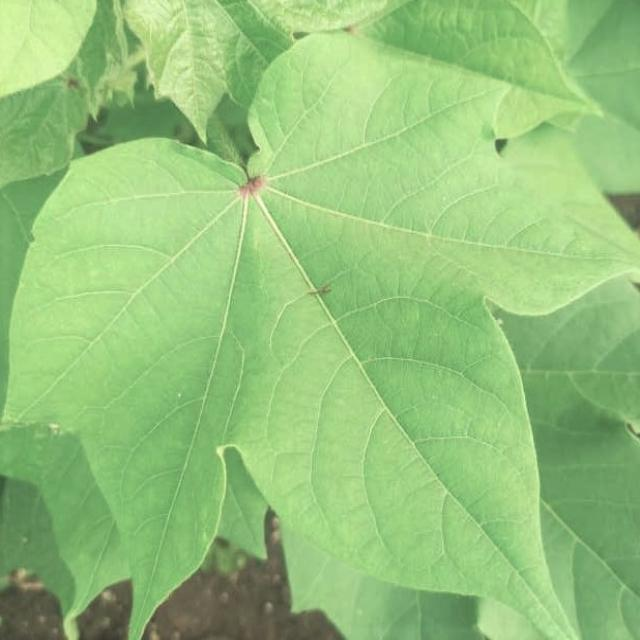Healthy Leaf: (11, 10, 639, 640)
